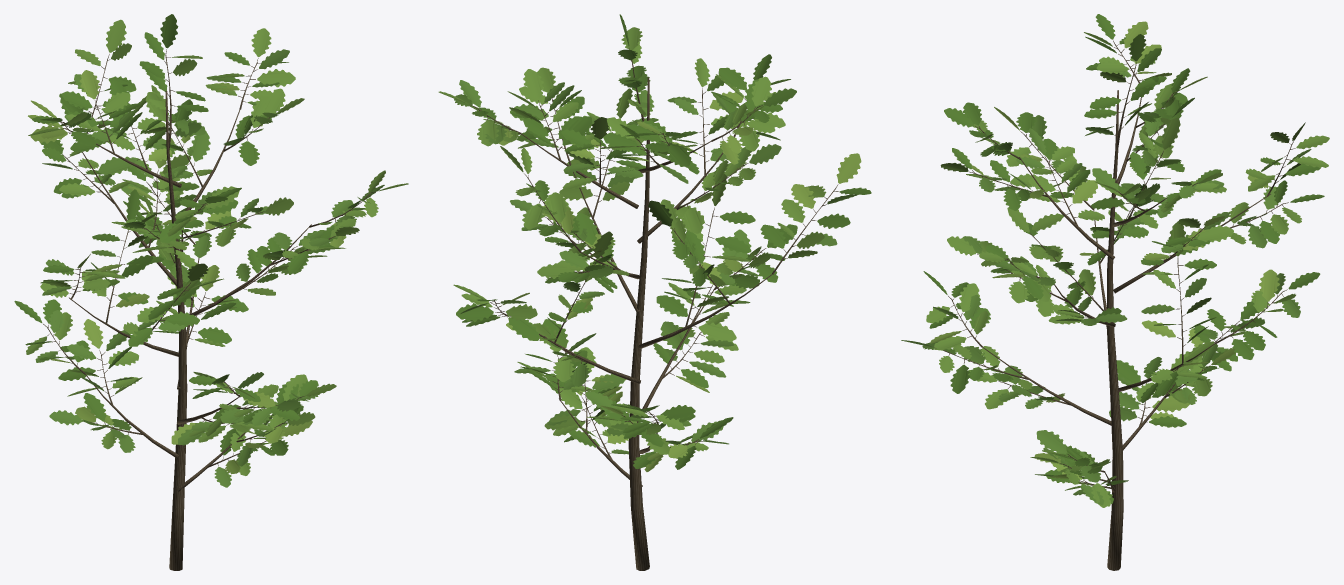
Rendered from Sessile_Oak_Sapling_01_LOD0.fbx.
3 renders of one model, left to right at view 1: azimuth 30°, elevation 25°; view 2: azimuth 150°, elevation 25°; view 3: azimuth 270°, elevation 25°, orthographic. The views are drawn at different scales.
Parts seen in each view (by area): view 1: Sessile_Oak_Sapling_01_Foliage_LOD0, Sessile_Oak_Sapling_01_Bark_LOD0; view 2: Sessile_Oak_Sapling_01_Foliage_LOD0, Sessile_Oak_Sapling_01_Bark_LOD0; view 3: Sessile_Oak_Sapling_01_Foliage_LOD0, Sessile_Oak_Sapling_01_Bark_LOD0.
Part boxes in pixels (box(x1,y1,x2,y2)): Sessile_Oak_Sapling_01_Foliage_LOD0: box(14, 14, 408, 487); Sessile_Oak_Sapling_01_Bark_LOD0: box(43, 49, 375, 570); Sessile_Oak_Sapling_01_Foliage_LOD0: box(438, 14, 871, 471); Sessile_Oak_Sapling_01_Bark_LOD0: box(470, 48, 838, 570); Sessile_Oak_Sapling_01_Foliage_LOD0: box(901, 14, 1329, 507); Sessile_Oak_Sapling_01_Bark_LOD0: box(934, 40, 1295, 570).
Bounding box in the file's own units: 133 × 200 × 144.
Materials: 5 (1 with a texture image).
